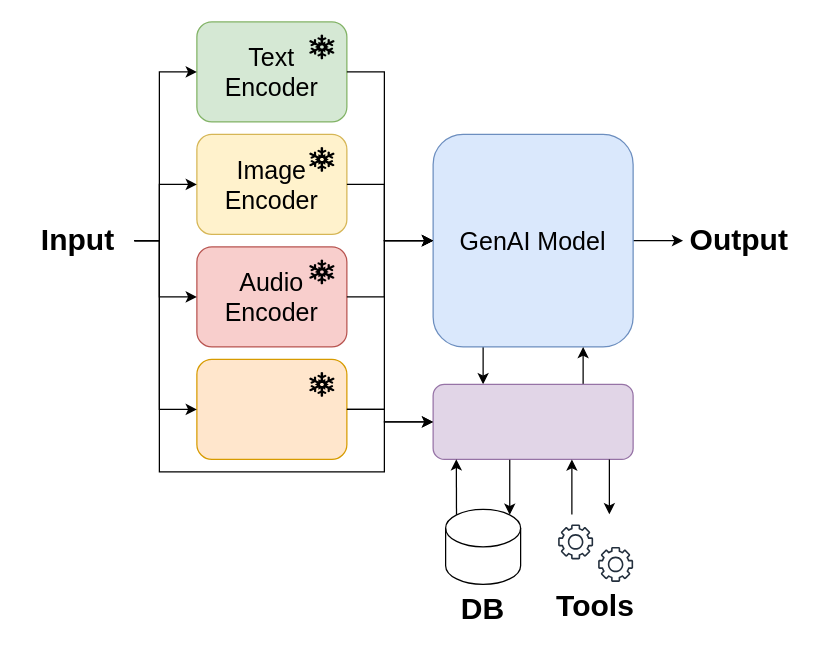
This 816x656 diagram has some shape labels left out. The box of each missing label's shape, as (x1, y1, x2, y2) in pixels:
Retrieval/Storage: (432, 383, 633, 459)
Video Encoder: (196, 358, 347, 459)
